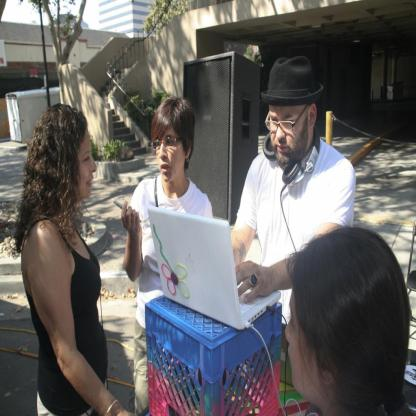board: (148, 205, 282, 334)
